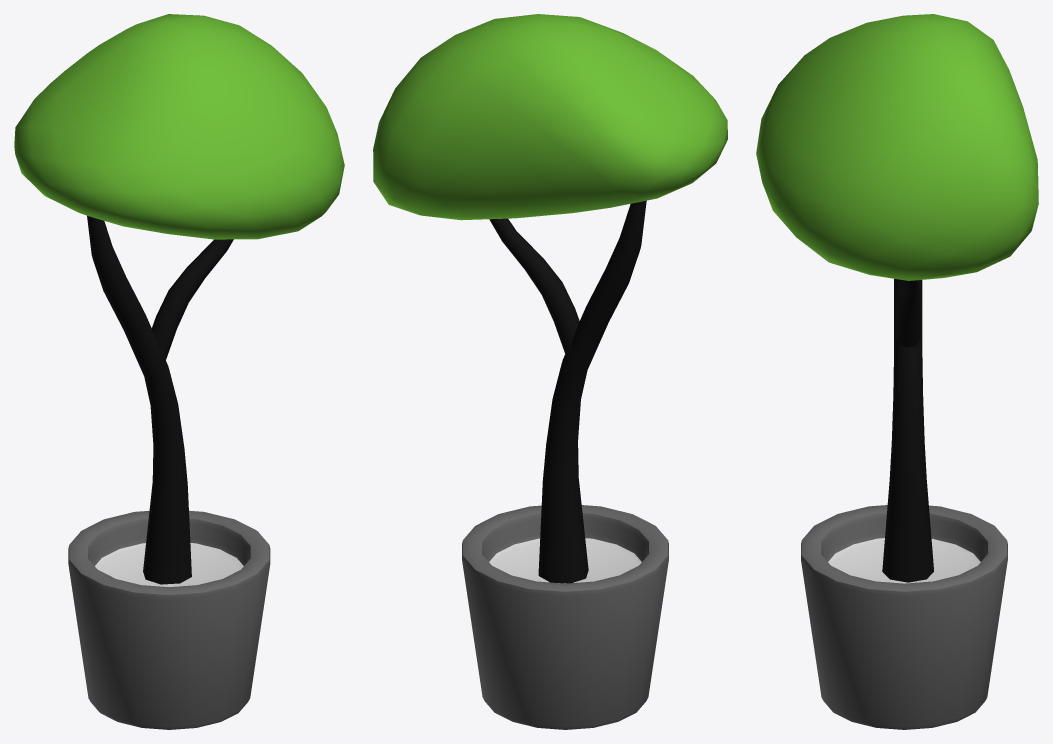
Rendered from SM_tree_room.fbx.
The picture shows the model from 3 angles, left to right: view 1: azimuth 30°, elevation 25°; view 2: azimuth 150°, elevation 25°; view 3: azimuth 270°, elevation 25°; orthographic projection. The views are drawn at different scales.
Parts seen in each view (by area): view 1: Cylinder048; view 2: Cylinder048; view 3: Cylinder048.
Part boxes in pixels (<box>): Cylinder048: <box>14,14,344,729</box>; Cylinder048: <box>373,14,727,729</box>; Cylinder048: <box>756,14,1038,729</box>.
Bounding box in the file's own units: 34.21 × 72.85 × 27.5.
